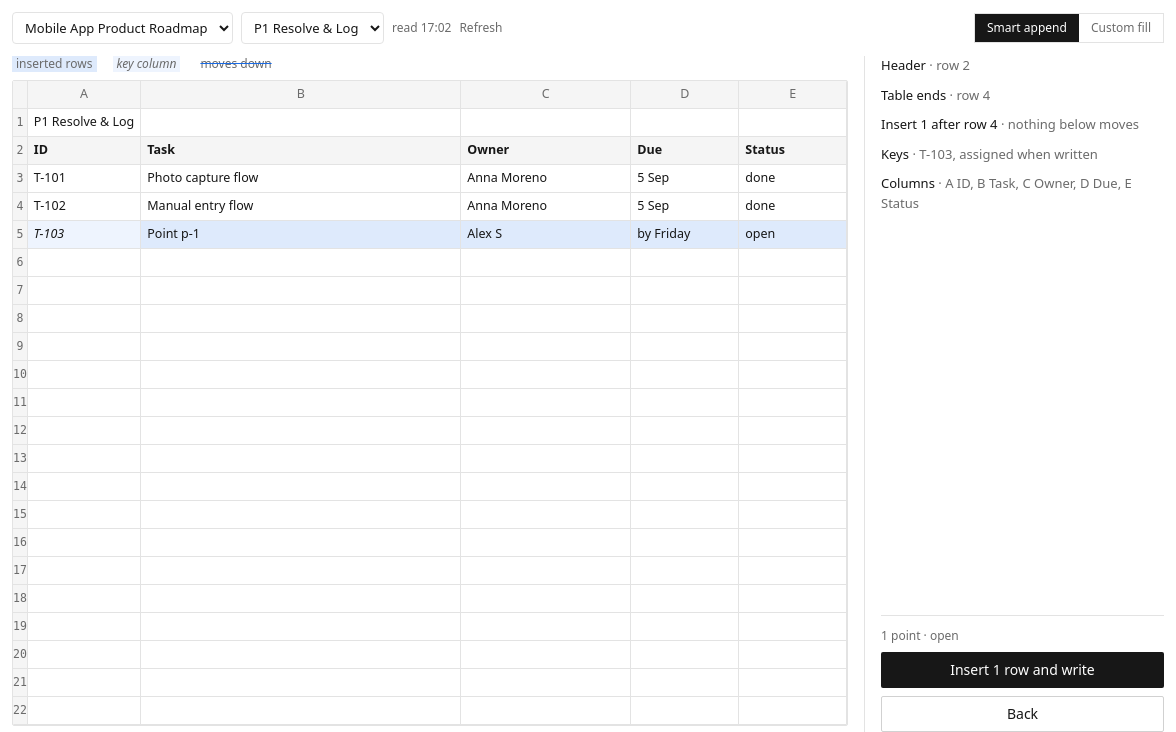
Scenario: TransferStep custom fill › blocks an anchor in the header with one line and no plan
The image size is (1176, 732).
Click the button "Custom fill": [1121, 28] box left=1079, top=14, right=1163, bottom=42
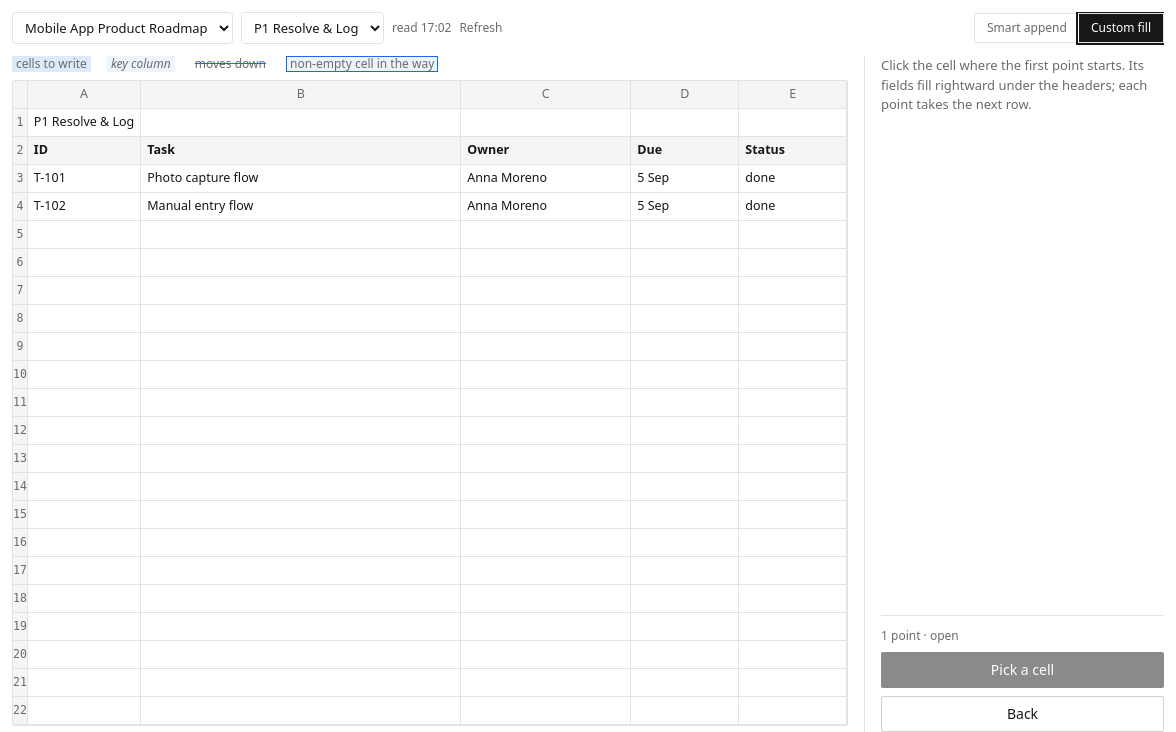
Click the cell "Task": [301, 151] box left=141, top=137, right=461, bottom=165
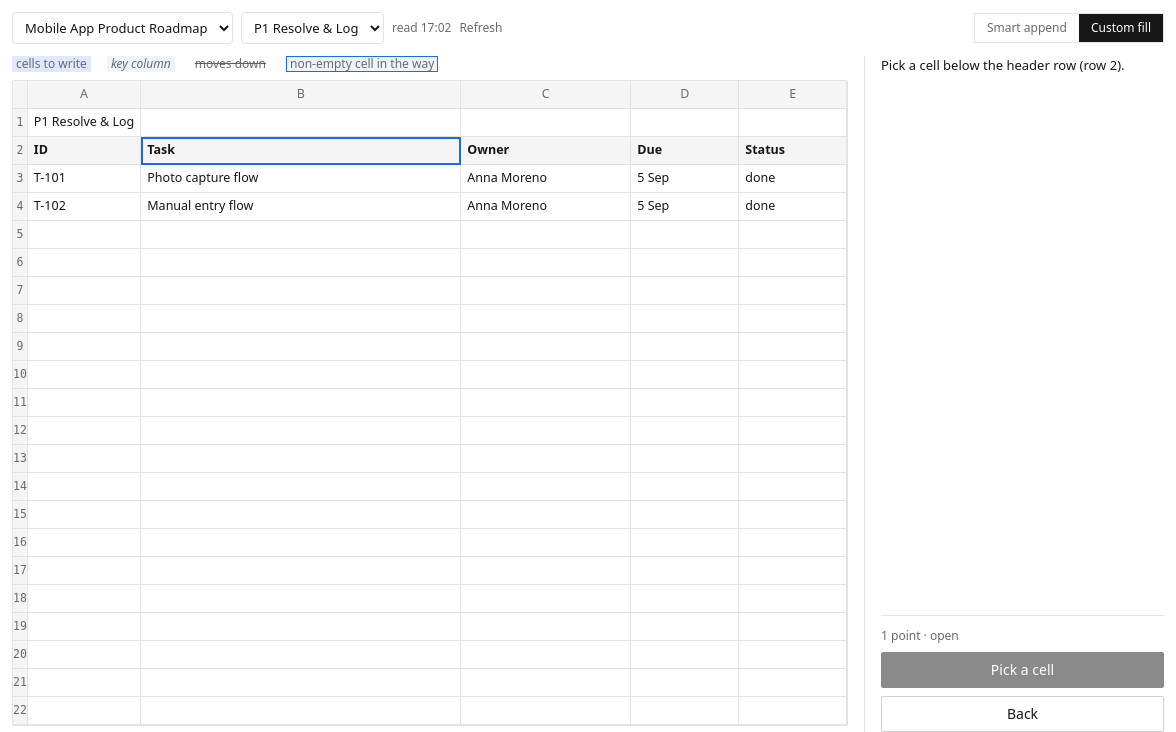
Now the button "Pick a cell" is disabled, box left=881, top=652, right=1164, bottom=688
Now the text with test id "anchor-blocked" reads "Pick a cell below the header row (row 2).", box left=881, top=56, right=1164, bottom=76
